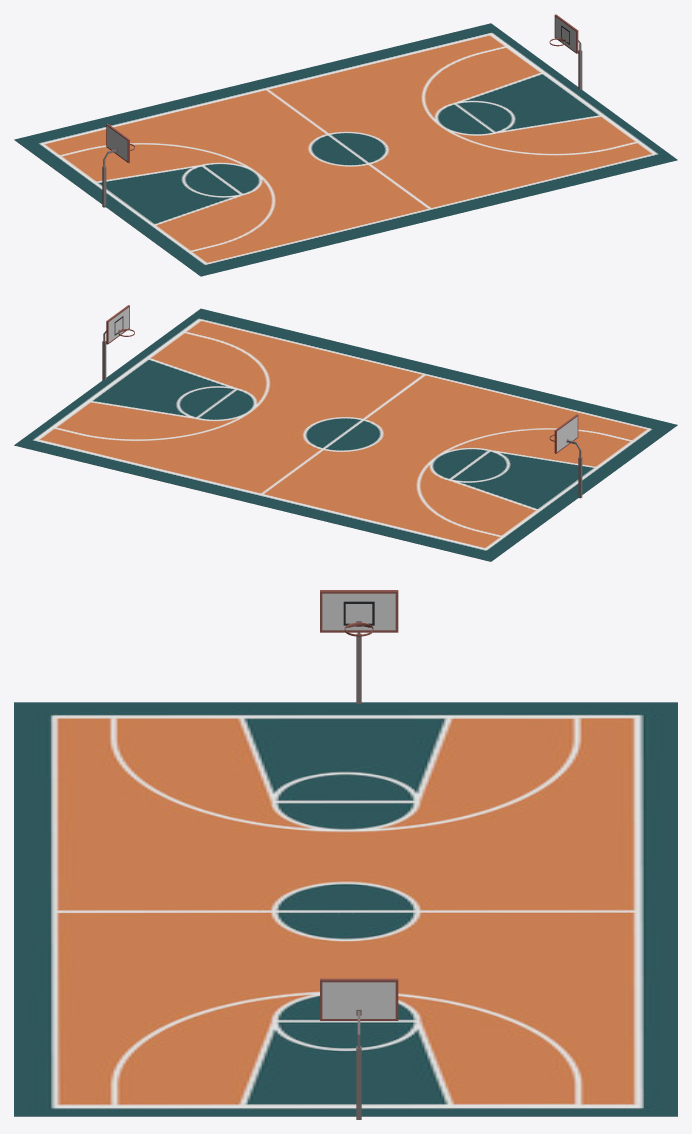
Rendered from Basketball_Court -3D.fbx.
3 views of the same model, one above another, from view 1: azimuth 30°, elevation 25°; view 2: azimuth 150°, elevation 25°; view 3: azimuth 270°, elevation 25° (orthographic). The views are drawn at different scales.
Parts seen in each view (by area): view 1: Court, Basketball_Stand; view 2: Court, Basketball_Stand; view 3: Court, Basketball_Stand.
Part boxes in pixels (x1,y1,x2,y2): Court: (14,23,677,276); Basketball_Stand: (102,14,582,207); Court: (14,308,677,561); Basketball_Stand: (102,305,582,498); Court: (14,702,677,1116); Basketball_Stand: (320,590,398,1119).
Bounding box in the file's own units: 442 × 63.13 × 299.
